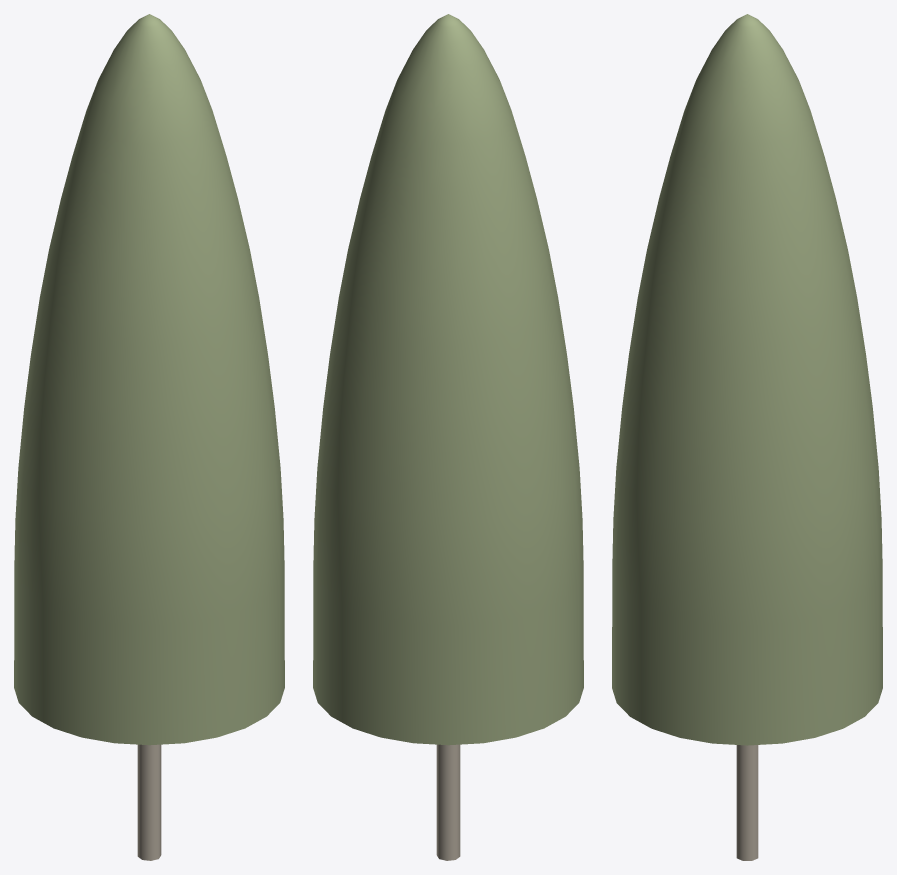
The model's file is PinusContorta.glb.
The picture shows the model from 3 angles, left to right: view 1: azimuth 30°, elevation 25°; view 2: azimuth 150°, elevation 25°; view 3: azimuth 270°, elevation 25°; orthographic projection.
Parts seen in each view (by area): view 1: Lodgepole_Pine__Schematic_LOD3; view 2: Lodgepole_Pine__Schematic_LOD3; view 3: Lodgepole_Pine__Schematic_LOD3.
Boxes of the visible parts, x1,y1,x2,y2 form: Lodgepole_Pine__Schematic_LOD3: (14, 14, 284, 860); Lodgepole_Pine__Schematic_LOD3: (313, 14, 583, 860); Lodgepole_Pine__Schematic_LOD3: (612, 14, 882, 860).
Size of the model in its own units: 12.4 by 42.55 by 12.4.
